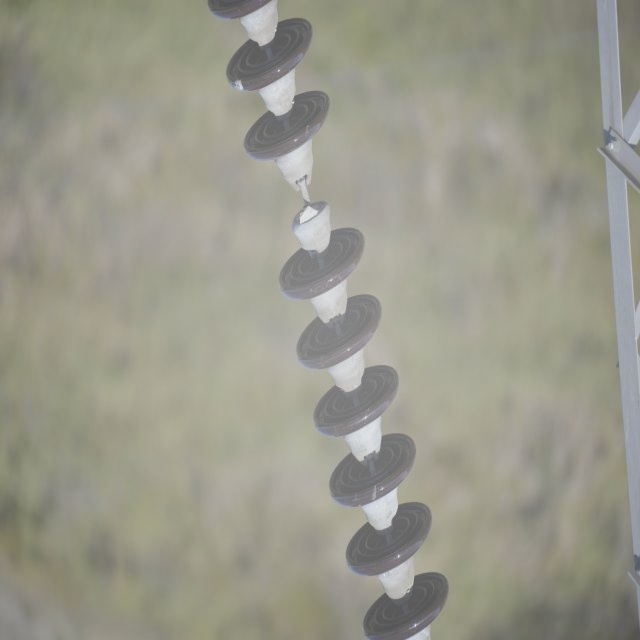broken: (291, 195, 332, 236)
insulator: (210, 0, 450, 637)
